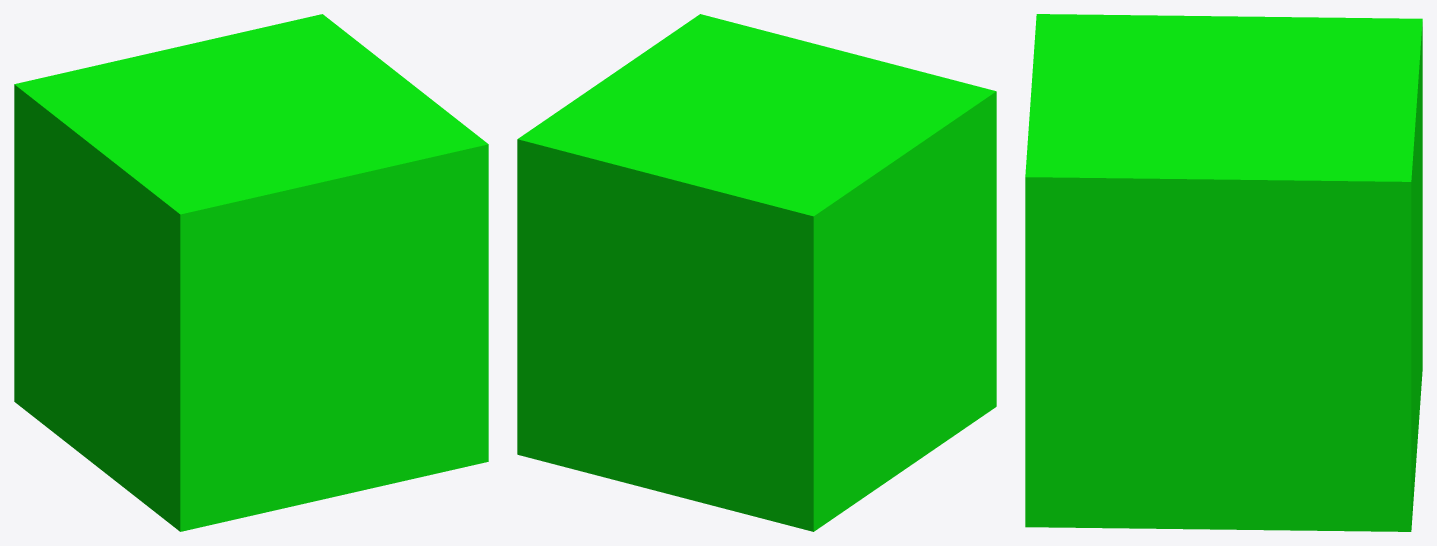
File: box_anim_unity.fbx
The picture shows the model from 3 angles, left to right: view 1: azimuth 30°, elevation 25°; view 2: azimuth 150°, elevation 25°; view 3: azimuth 270°, elevation 25°; orthographic projection. The views are drawn at different scales.
Parts seen in each view (by area): view 1: Cube; view 2: Cube; view 3: Cube.
Part boxes in pixels (bbox=[...]): Cube: bbox=[14, 14, 488, 531]; Cube: bbox=[517, 14, 996, 531]; Cube: bbox=[1025, 14, 1422, 531].
Bounding box in the file's own units: 206 × 200 × 206.
